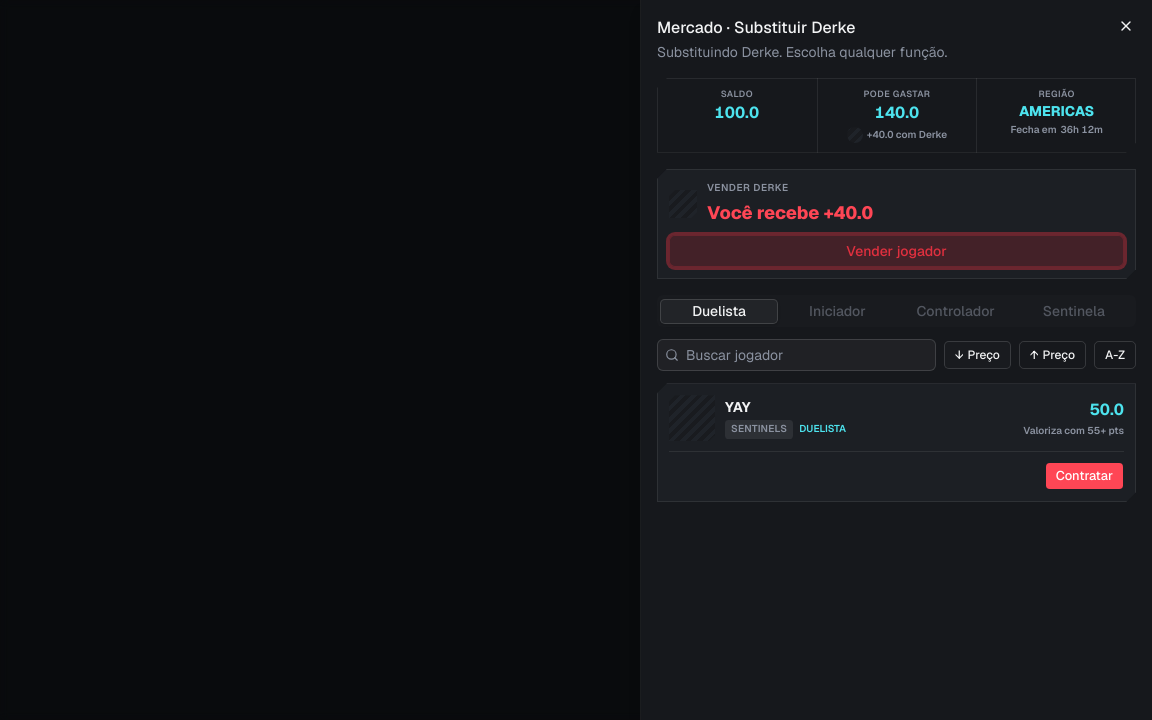
Test case: MarketSheet — busca por nome › busca sem resultado numa função: mostra o termo e o botão Limpar busca
This screenshot has width=1152, height=720.
Type "zzz" into the search field named "buscar jogador pelo nome" at (796, 355), box [657, 339, 936, 371]
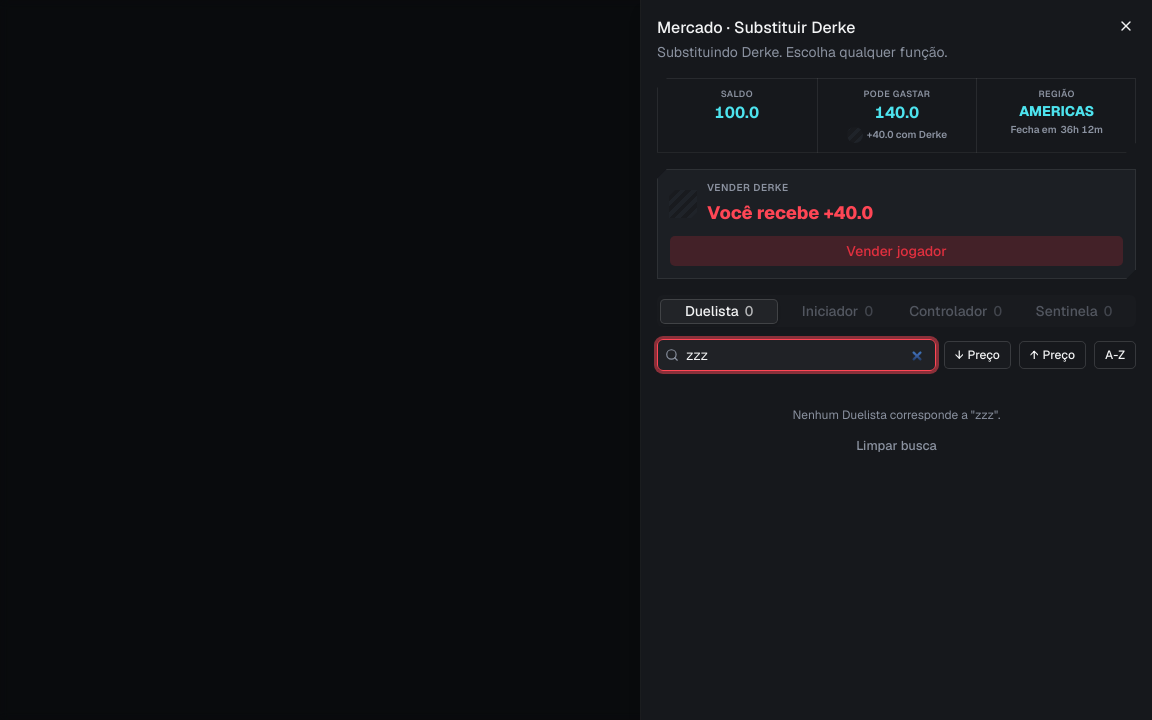
Expected: the text "Nenhum Duelista corresponde a \"zzz\"." is shown, [792, 407, 1000, 423]
Click the button "Limpar busca" at (896, 445), box [845, 431, 948, 459]
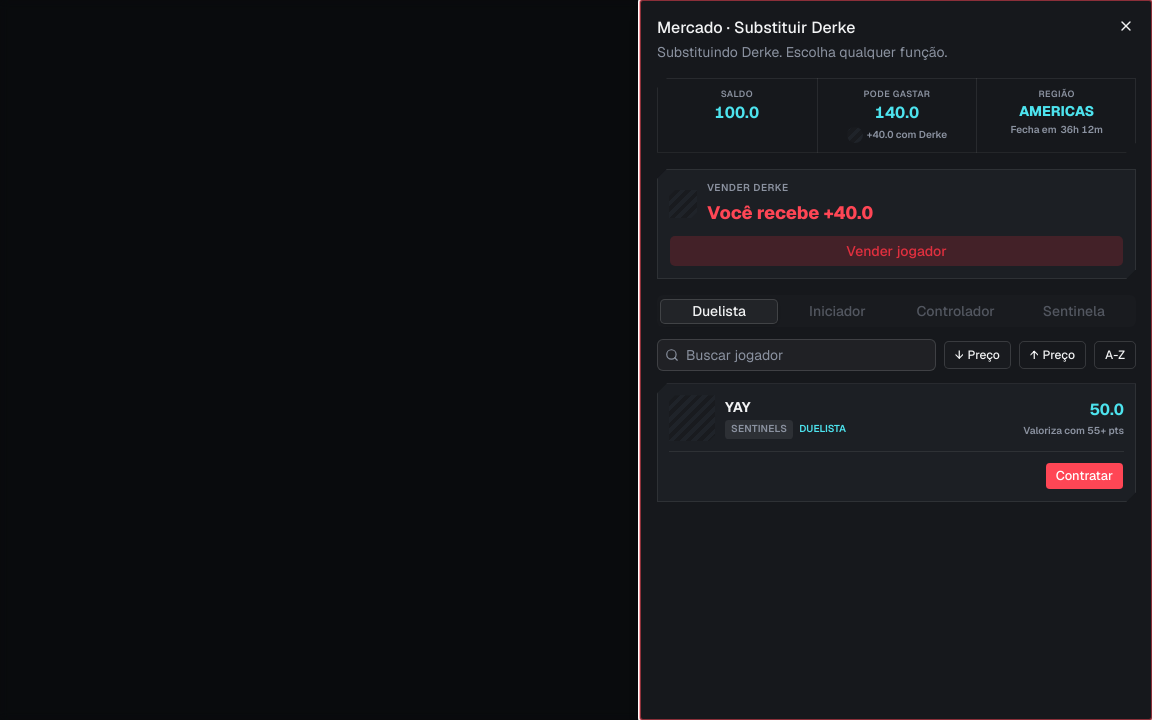
Expected: the text "yay" is shown, [725, 398, 751, 416]
